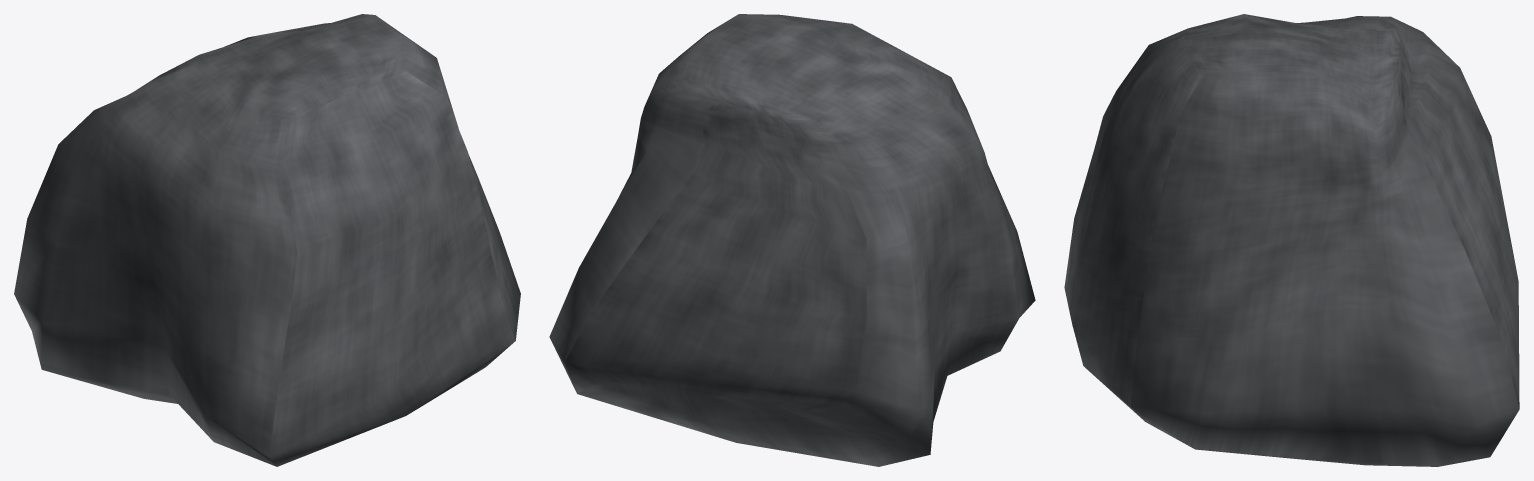
The model's file is Kei 4.fbx.
3 renders of one model, left to right at view 1: azimuth 30°, elevation 25°; view 2: azimuth 150°, elevation 25°; view 3: azimuth 270°, elevation 25°, orthographic. The views are drawn at different scales.
Visible parts, largest first — view 1: pCube1; view 2: pCube1; view 3: pCube1.
Boxes of the visible parts, bbox=[...] form: pCube1: bbox=[14, 14, 520, 466]; pCube1: bbox=[549, 14, 1035, 466]; pCube1: bbox=[1064, 14, 1519, 466].
Size of the model in its own units: 7.82 by 6.96 by 7.37.
1 material, 1 textured.
